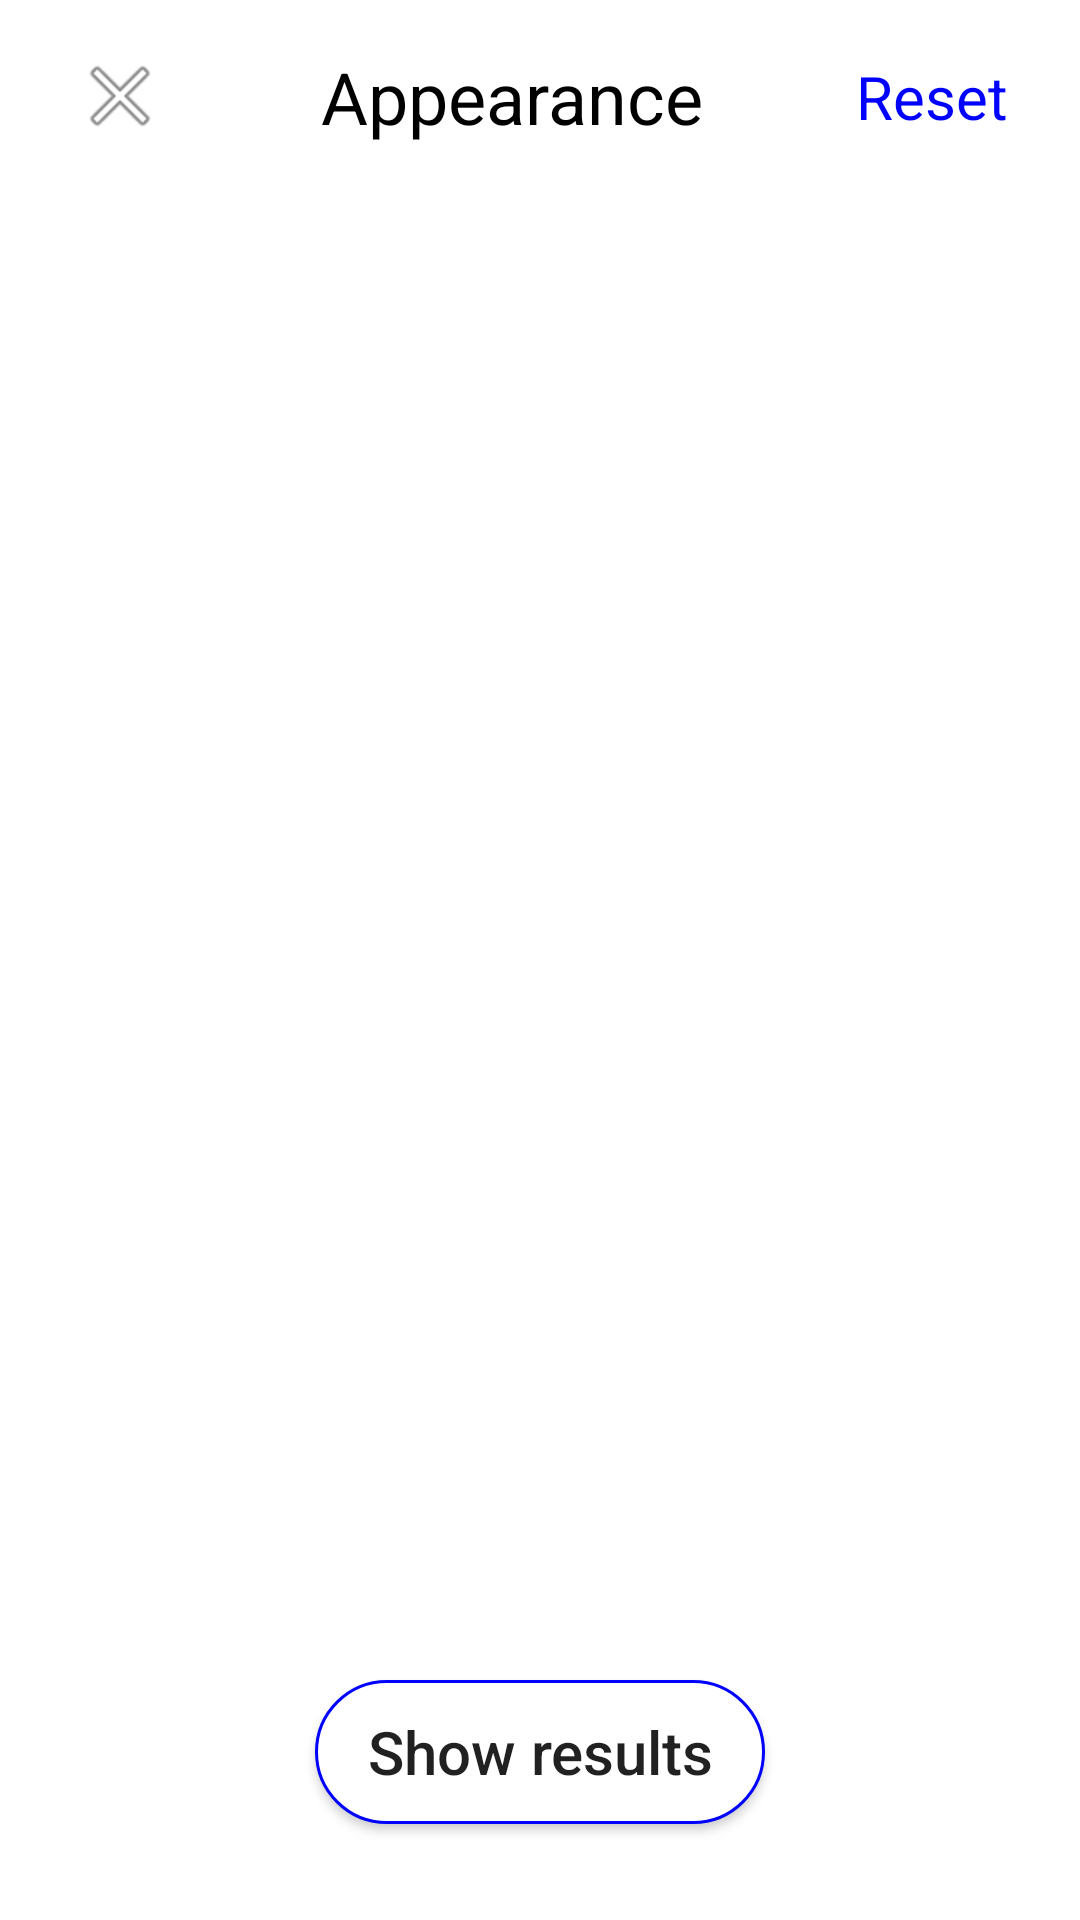

Icons on this 1080px×1920px Android screen, each with its box as (x1, y1, x2, y2):
close clear cancel: (90, 66, 150, 126)
